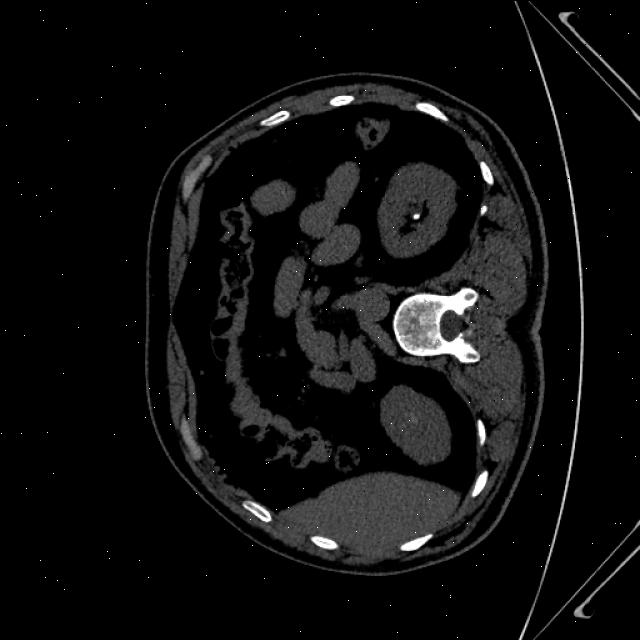kidneystone: (412, 212, 422, 218)
